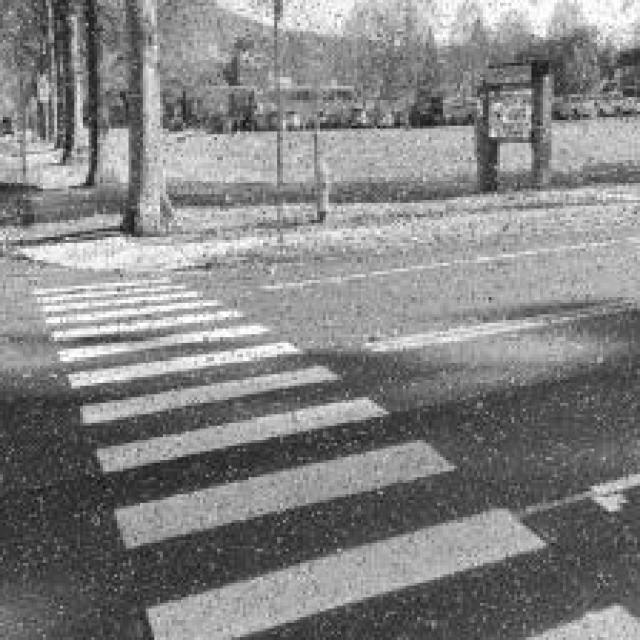crosswalk: (29, 256, 604, 640)
